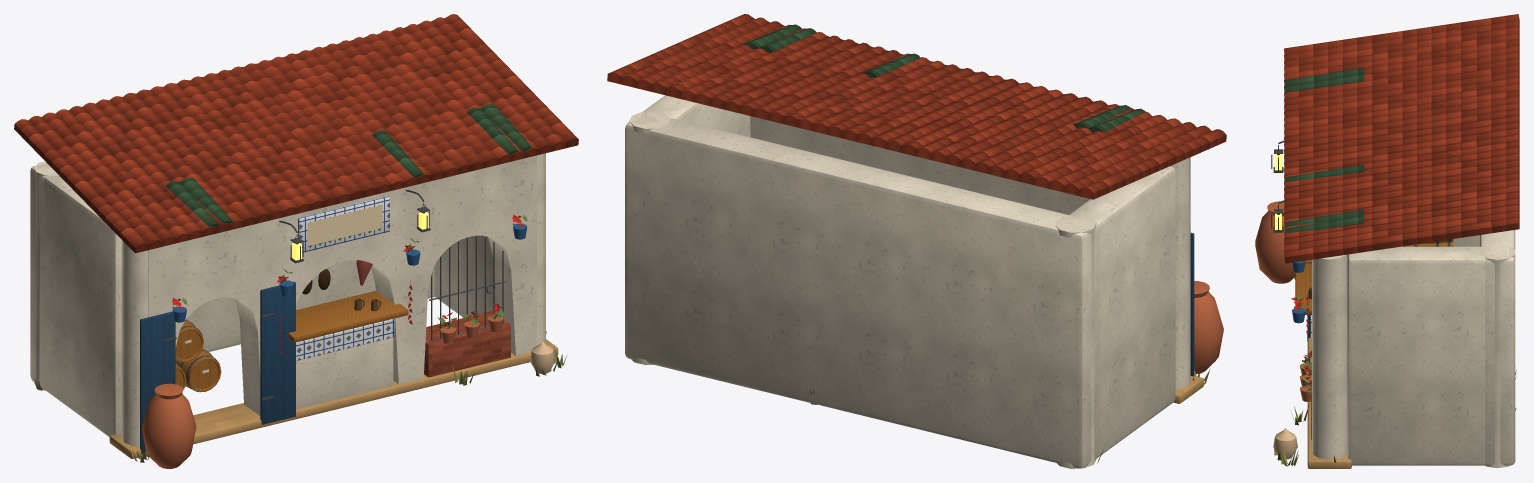
Rendered from tavern-venta.glb.
3 views of the same model, side by side, from view 1: azimuth 30°, elevation 25°; view 2: azimuth 150°, elevation 25°; view 3: azimuth 270°, elevation 25° (orthographic). The views are drawn at different scales.
Parts seen in each view (by area): view 1: tavern_venta, sign_face; view 2: tavern_venta; view 3: tavern_venta.
Boxes of the visible parts, x1=… form: tavern_venta: x1=14, y1=14, x2=578, y2=468; sign_face: x1=307, y1=205, x2=382, y2=246; tavern_venta: x1=607, y1=14, x2=1226, y2=468; tavern_venta: x1=1255, y1=14, x2=1519, y2=468.
Bounding box in the file's own units: 9.03 × 5.09 × 4.83.
24 materials, 9 textured.
